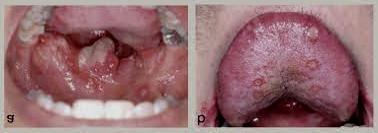Caries: (162, 25, 187, 44)
Ulcer: (253, 75, 270, 105), (303, 25, 322, 43), (136, 88, 151, 101), (104, 59, 119, 70)
